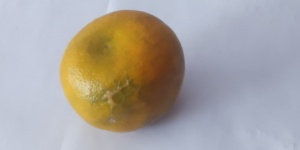BAD: (66, 14, 187, 133)
